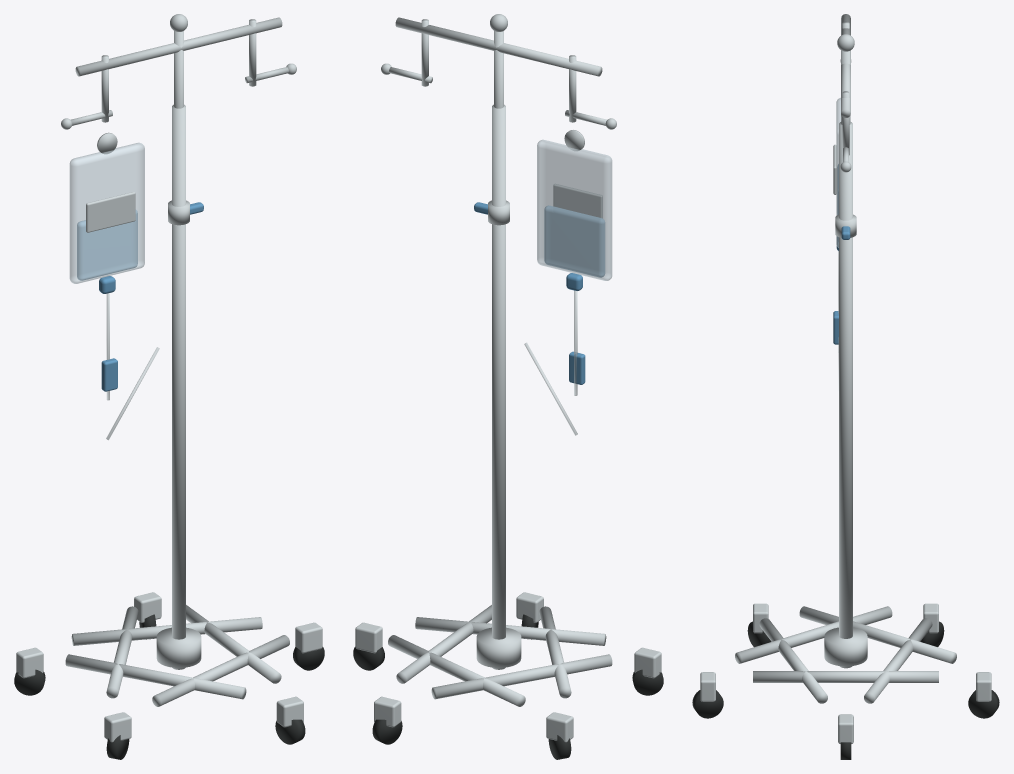
File: iv_stand_unity.glb
The picture shows the model from 3 angles, left to right: view 1: azimuth 30°, elevation 25°; view 2: azimuth 150°, elevation 25°; view 3: azimuth 270°, elevation 25°; orthographic projection. The views are drawn at different scales.
Parts seen in each view (by area): view 1: IV bag clear outer pouch, main vertical IV pole, IV bag fluid fill, top horizontal crossbar, five star base arm.003, five star base arm.001, five star base arm.004, base center hub, IV bag label panel, five star base arm, five star base arm.002, small caster fork (+9 smaller); view 2: IV bag clear outer pouch, main vertical IV pole, IV bag fluid fill, top horizontal crossbar, five star base arm.002, five star base arm.004, five star base arm.001, base center hub, five star base arm, IV bag label panel, five star base arm.003, small caster fork (+9 smaller); view 3: main vertical IV pole, five star base arm, five star base arm.002, five star base arm.003, base center hub, five star base arm.001, five star base arm.004, top horizontal crossbar, small caster wheel.001, small caster wheel.004.
Part boxes in pixels (left/top/right/bottom): IV bag clear outer pouch: left=69, top=142, right=144, bottom=283; main vertical IV pole: left=172, top=104, right=185, bottom=669; IV bag fluid fill: left=77, top=210, right=137, bottom=280; top horizontal crossbar: left=75, top=17, right=282, bottom=76; five star base arm.003: left=65, top=654, right=246, bottom=699; five star base arm.001: left=71, top=617, right=262, bottom=645; five star base arm.004: left=152, top=635, right=289, bottom=706; base center hub: left=156, top=627, right=201, bottom=667; IV bag label panel: left=86, top=192, right=135, bottom=232; five star base arm: left=186, top=605, right=281, bottom=683; five star base arm.002: left=106, top=606, right=138, bottom=698; small caster fork: left=295, top=622, right=322, bottom=653; IV bag clear outer pouch: left=537, top=139, right=612, bottom=280; main vertical IV pole: left=492, top=104, right=505, bottom=669; IV bag fluid fill: left=544, top=205, right=605, bottom=277; top horizontal crossbar: left=395, top=17, right=602, bottom=76; five star base arm.002: left=431, top=654, right=612, bottom=699; five star base arm.004: left=415, top=617, right=606, bottom=645; five star base arm.001: left=388, top=635, right=525, bottom=706; base center hub: left=476, top=627, right=521, bottom=667; five star base arm: left=396, top=605, right=491, bottom=683; IV bag label panel: left=553, top=184, right=602, bottom=218; five star base arm.003: left=539, top=606, right=571, bottom=698; small caster fork: left=355, top=622, right=382, bottom=653; main vertical IV pole: left=839, top=122, right=852, bottom=668; five star base arm: left=753, top=671, right=938, bottom=682; five star base arm.002: left=799, top=606, right=956, bottom=663; five star base arm.003: left=735, top=606, right=892, bottom=663; base center hub: left=824, top=627, right=867, bottom=666; five star base arm.001: left=864, top=618, right=932, bottom=703; five star base arm.004: left=759, top=618, right=827, bottom=703; top horizontal crossbar: left=841, top=14, right=850, bottom=117; small caster wheel.001: left=968, top=690, right=999, bottom=718; small caster wheel.004: left=692, top=690, right=723, bottom=718.
Bounding box in the file's own units: 0.9688 × 2.42 × 1.02.
